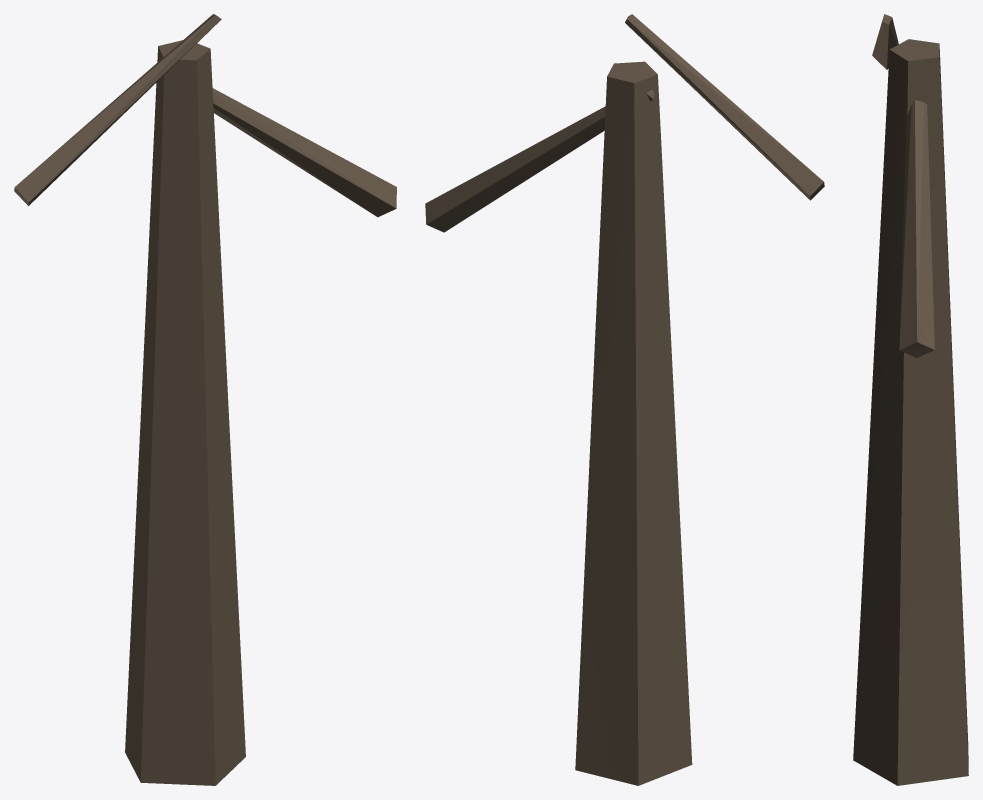
Rendered from prop_snag_lod2.glb.
3 renders of one model, left to right at view 1: azimuth 30°, elevation 25°; view 2: azimuth 150°, elevation 25°; view 3: azimuth 270°, elevation 25°, orthographic. The views are drawn at different scales.
Parts seen in each view (by area): view 1: prop_snag_lod2; view 2: prop_snag_lod2; view 3: prop_snag_lod2.
Boxes of the visible parts, <box> form: prop_snag_lod2: <box>14,14,396,785</box>; prop_snag_lod2: <box>425,14,824,785</box>; prop_snag_lod2: <box>853,14,968,785</box>.
Bounding box in the file's own units: 1.51 × 2.75 × 0.3819.
